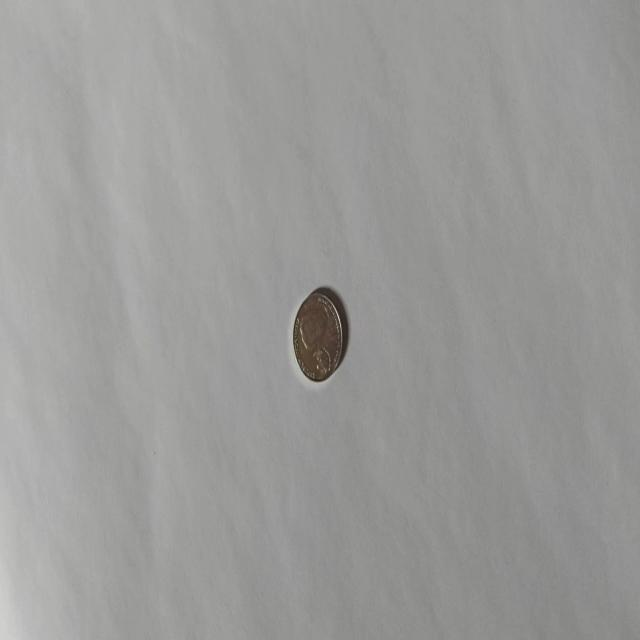seratus rupiah: (292, 288, 343, 382)
